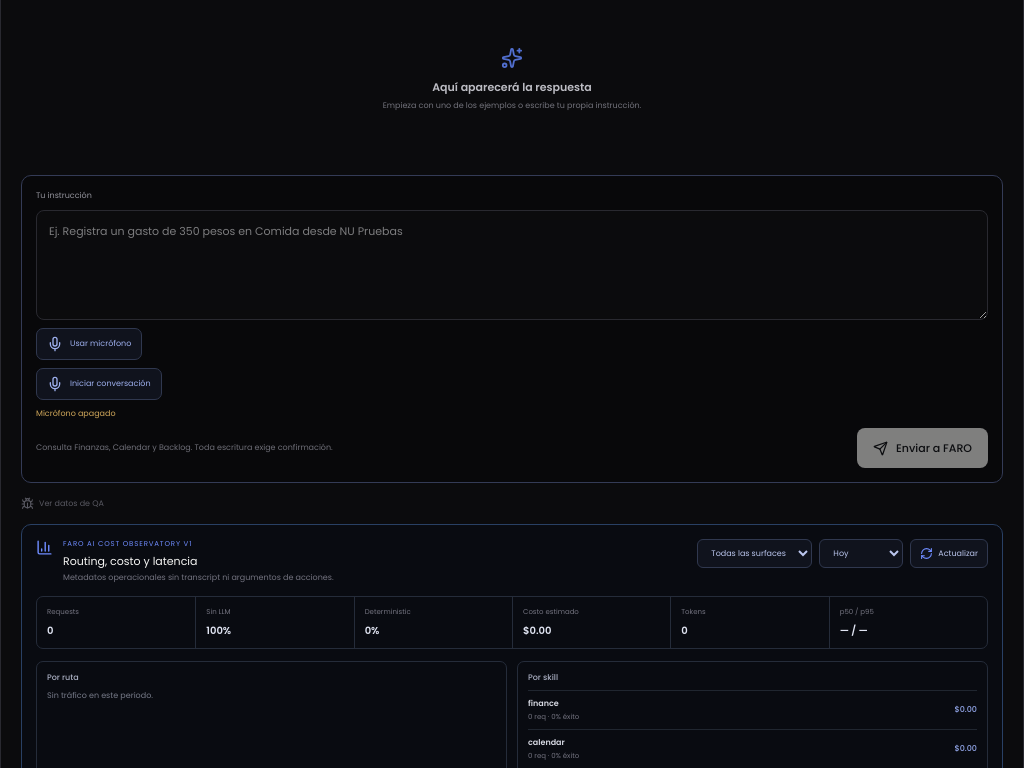
AiLabConsole con ElevenLabs › mantiene viva la propuesta cuando se pregunta por el duplicado
(page scrolled)
Click the button "Iniciar conversación".
click(99, 384)  # box 36,368 -> 162,400
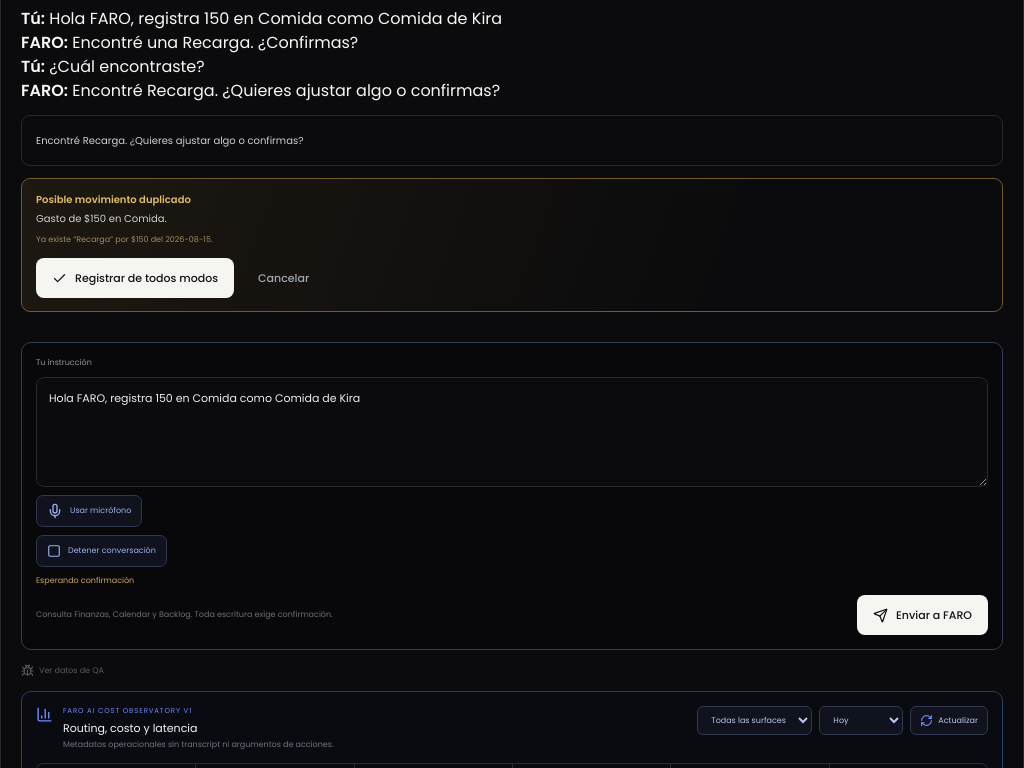
Check: the text "Posible movimiento duplicado" is shown, box 36,192 -> 191,207
